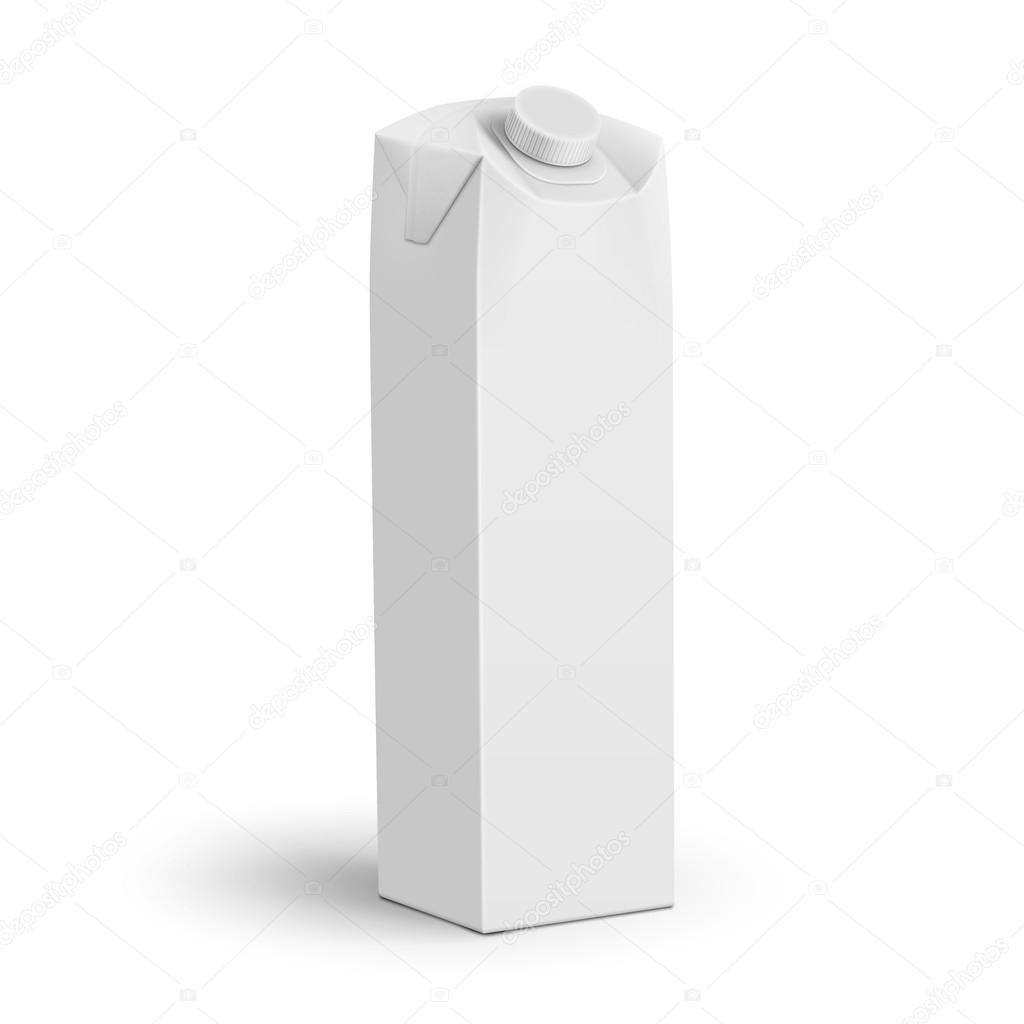carton: (332, 22, 740, 972)
